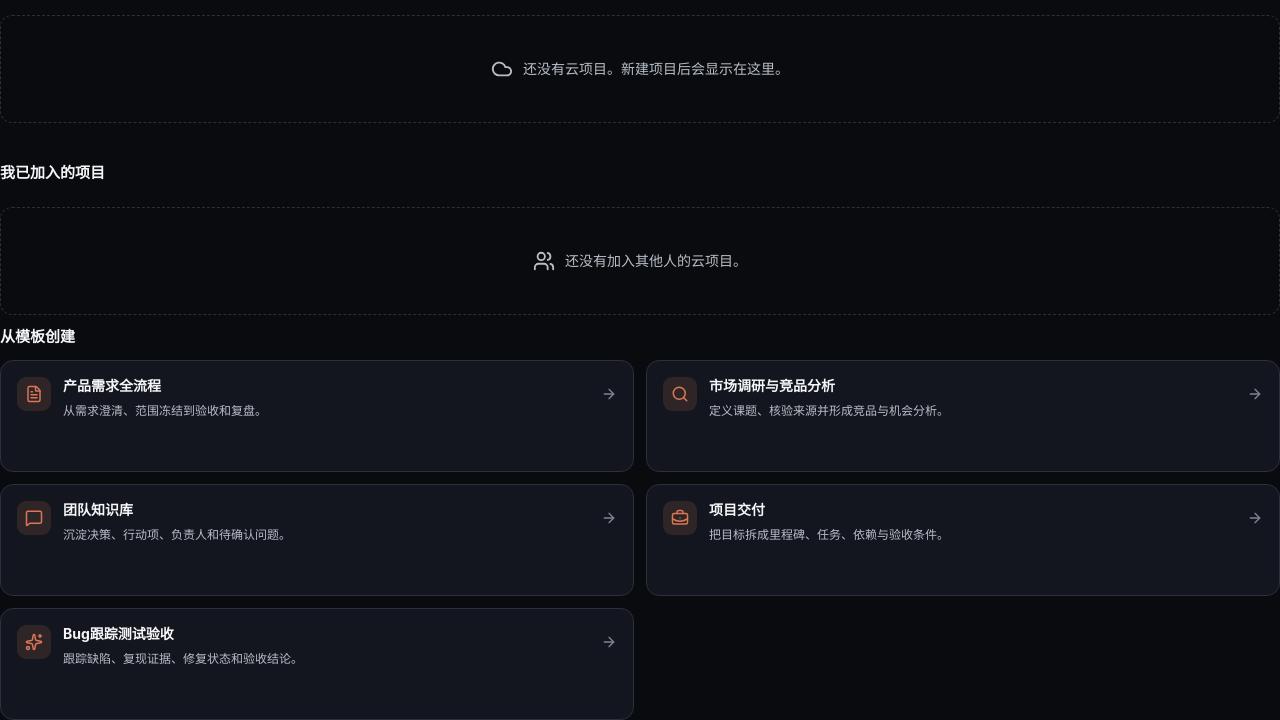
Scenario: WorkBuddy CloudProject production surface › shows a specific project quota message while preserving the new-project draft
(page scrolled)
Expected: the heading "从模板创建" is shown, 0,327 -> 75,348
Click the button "产品需求全流程 从需求澄清、范围冻结到验收和复盘。" at (34, 394), box 0,360 -> 634,472
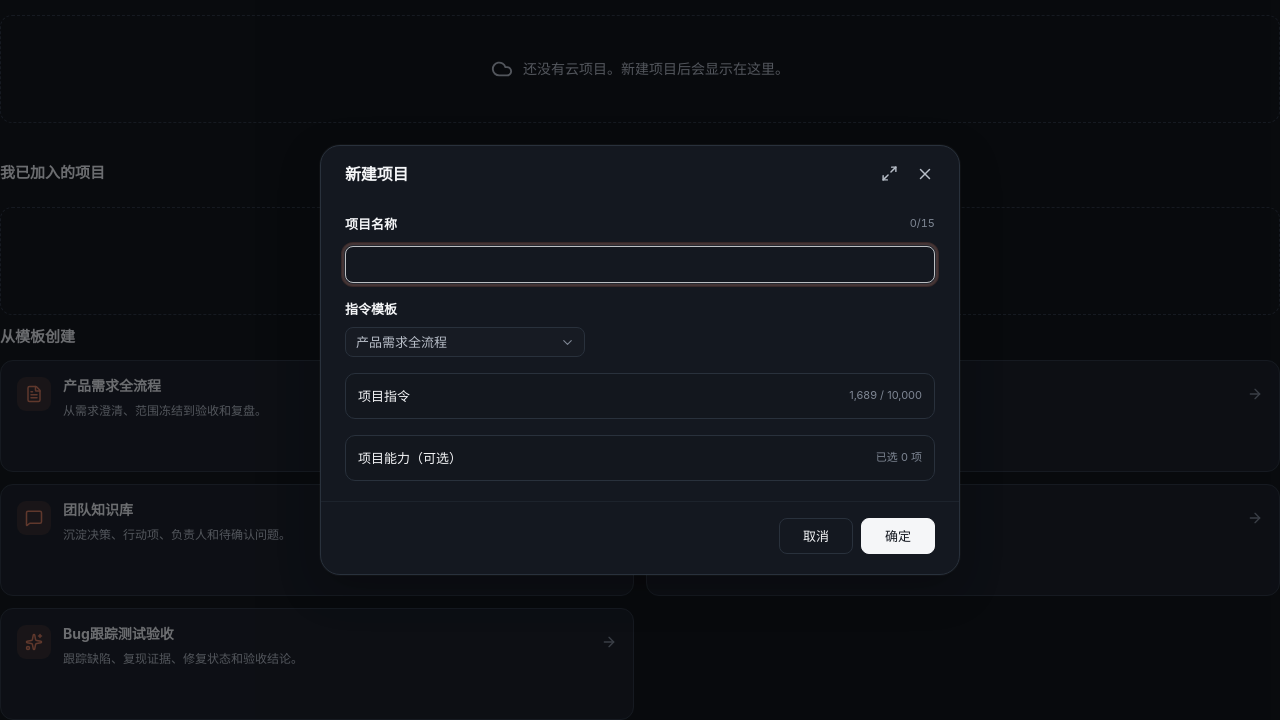
Type "保留的项目名" into the field labelled "项目名称" at (640, 265), box 345,246 -> 935,283
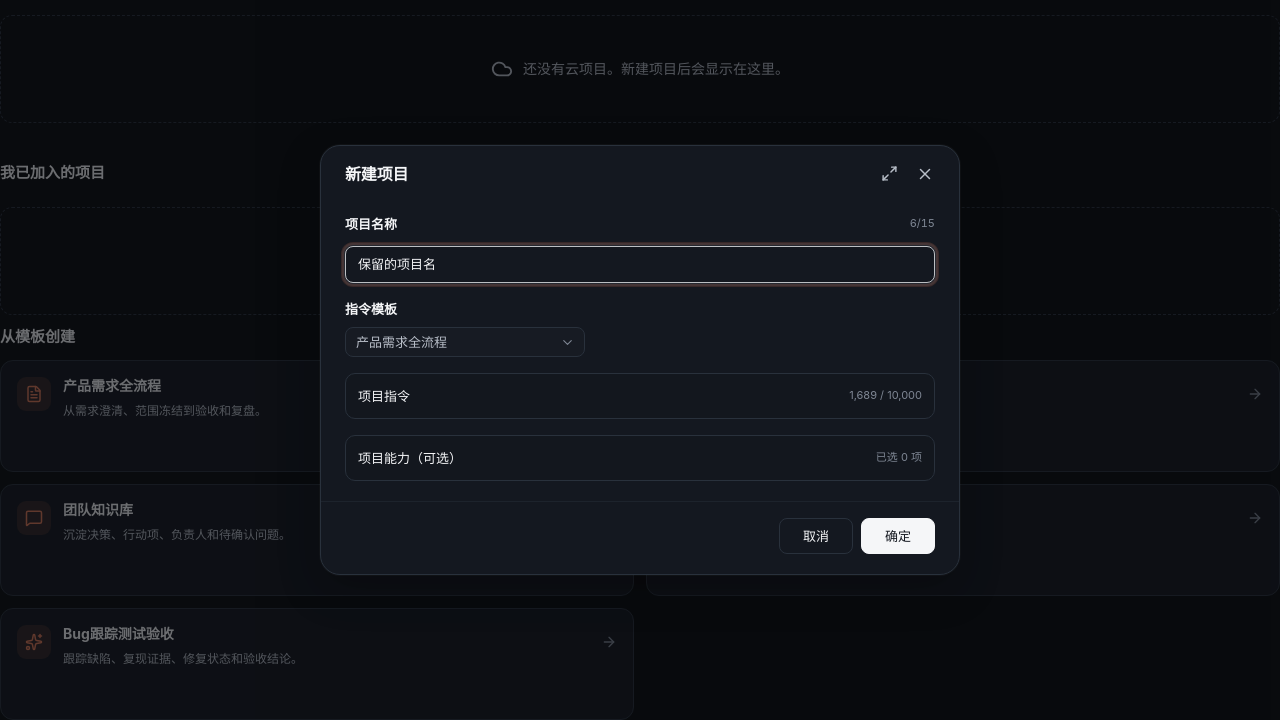
Click the button "确定" at (898, 536), box 861,518 -> 935,554
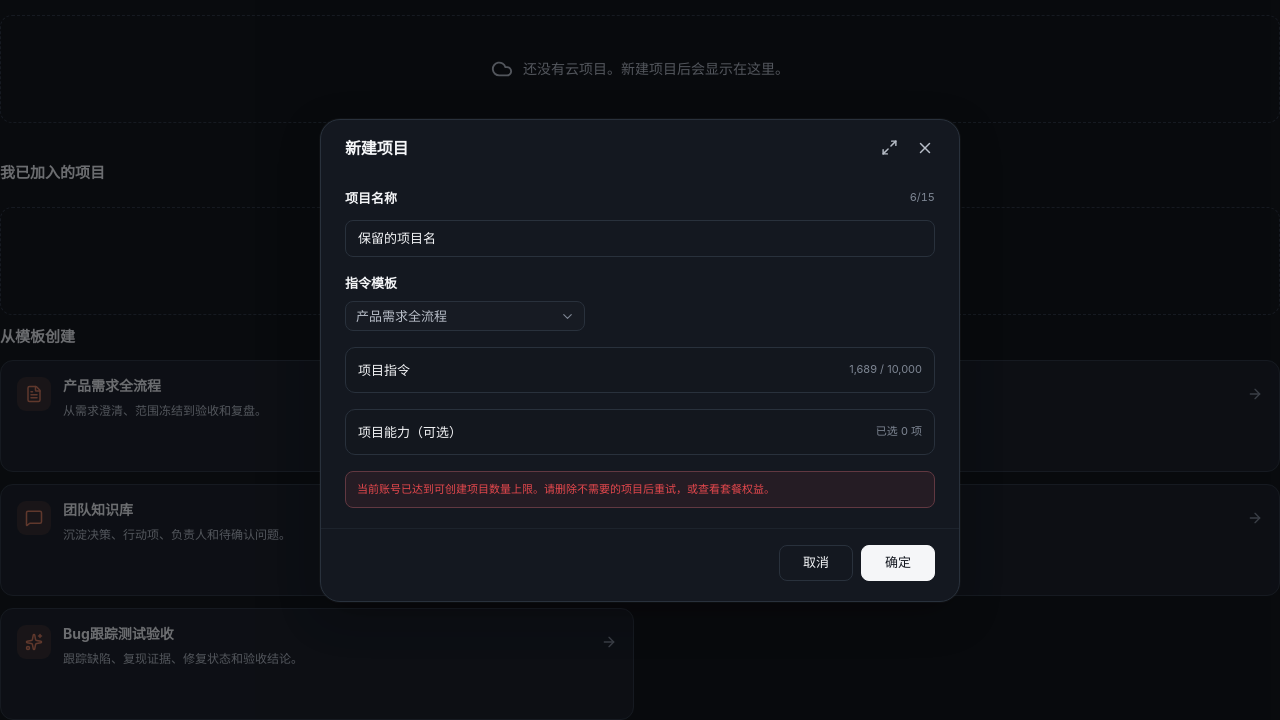
Now the text "当前账号已达到可创建项目数量上限。请删除不需要的项目后重试，或查看套餐权益。" is shown, box 345,471 -> 935,508
